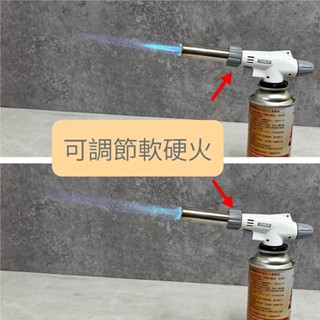gastorch: (173, 34, 317, 161), (168, 198, 317, 320)
